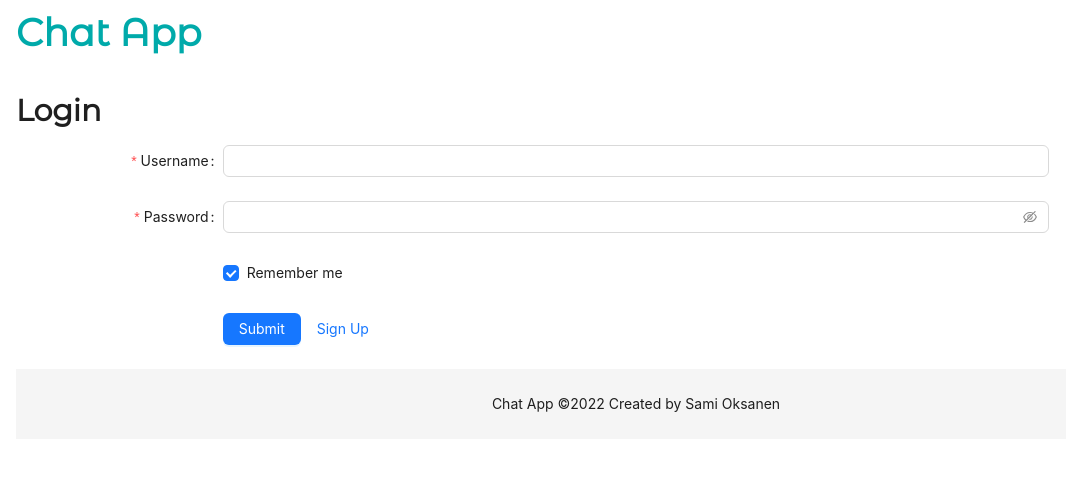
Test: LoginForm › toggles to sign up form when sign up button is clicked
The width and height of the screenshot is (1066, 485).
Click the button "Sign Up": click(343, 329) [301, 313, 385, 345]
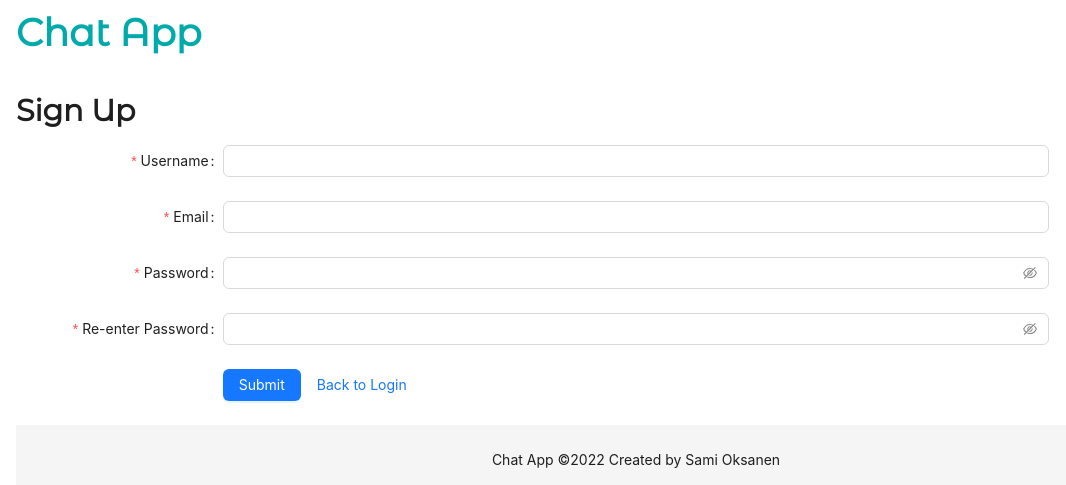
expect the heading "Sign Up" is shown: met, box [16, 92, 136, 129]
expect the field labelled "Email" is shown: met, box [223, 201, 1049, 233]
expect the button "Back to Login" is shown: met, box [301, 369, 423, 401]
